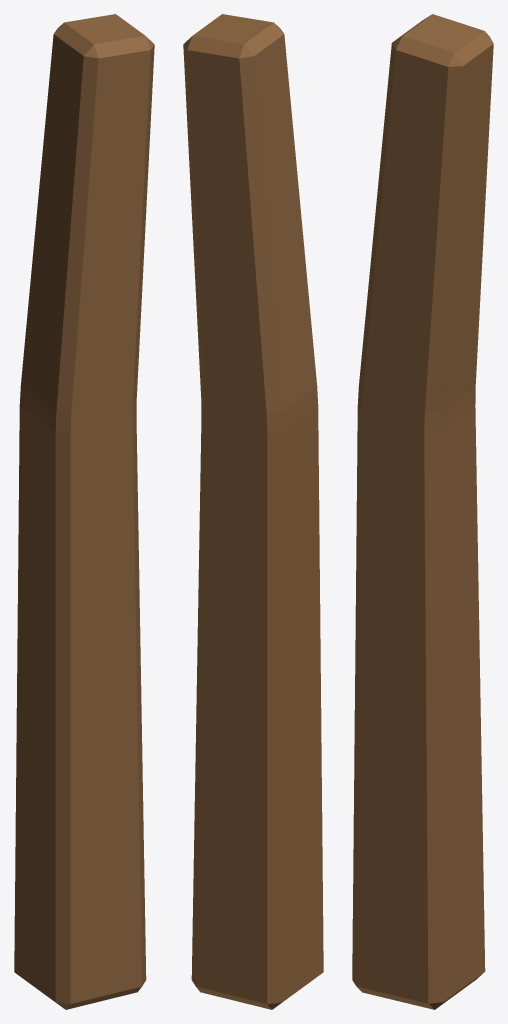
File: paal_hout.fbx
3 renders of one model, left to right at view 1: azimuth 30°, elevation 25°; view 2: azimuth 150°, elevation 25°; view 3: azimuth 330°, elevation 25°, orthographic.
Parts seen in each view (by area): view 1: Cube.006; view 2: Cube.006; view 3: Cube.006.
Boxes of the visible parts, x1,y1,x2,y2 form: Cube.006: (14,14,154,1009); Cube.006: (183,14,323,1009); Cube.006: (352,14,493,1009).
Size of the model in its own units: 0.2981 by 2.59 by 0.258.
